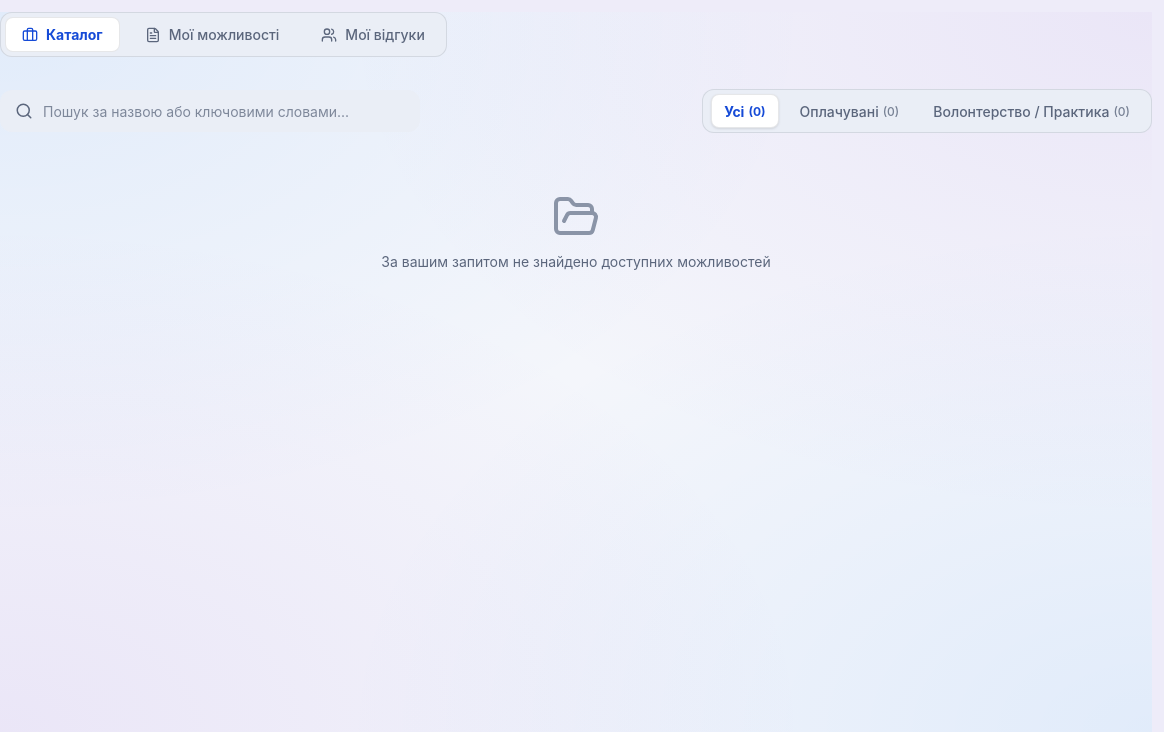
OpportunitiesTab component › should switch active sub-tab when clicking a tab button
Click the tab "Мої можливості": x=212, y=34 128,17 -> 296,52
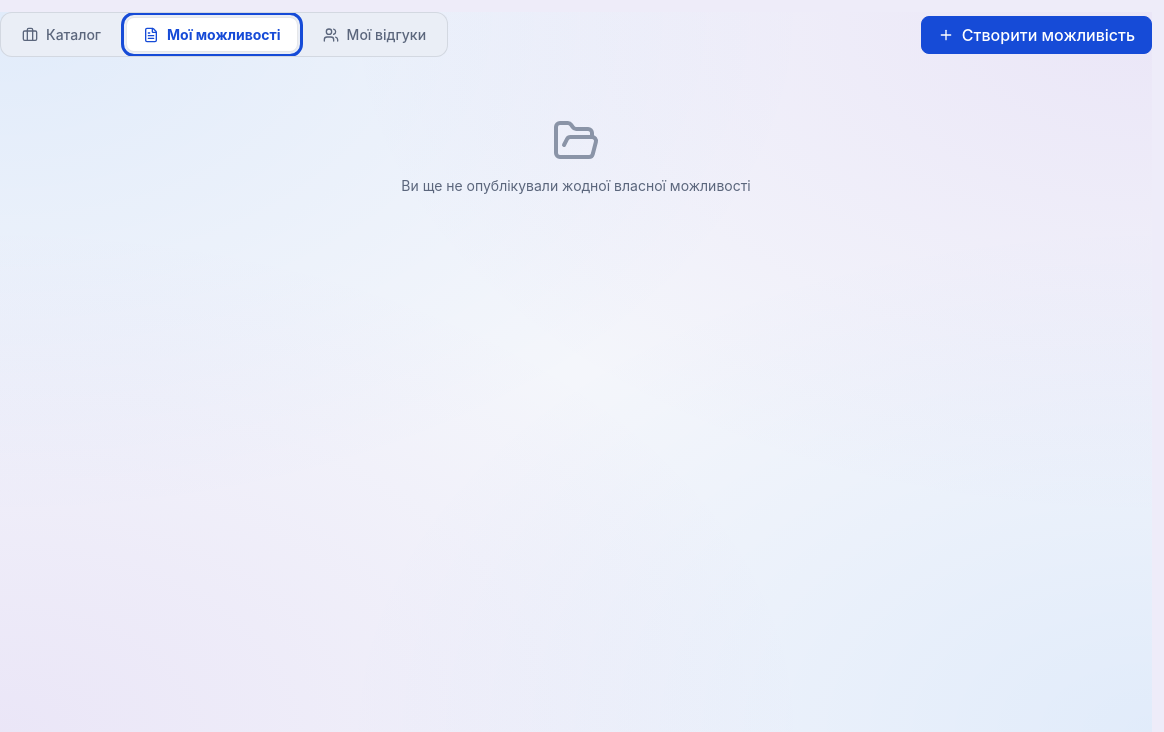
Check: the button "Створити можливість" is shown, box 921,16 -> 1152,54
Click the tab "Мої відгуки": x=374, y=34 306,17 -> 443,52
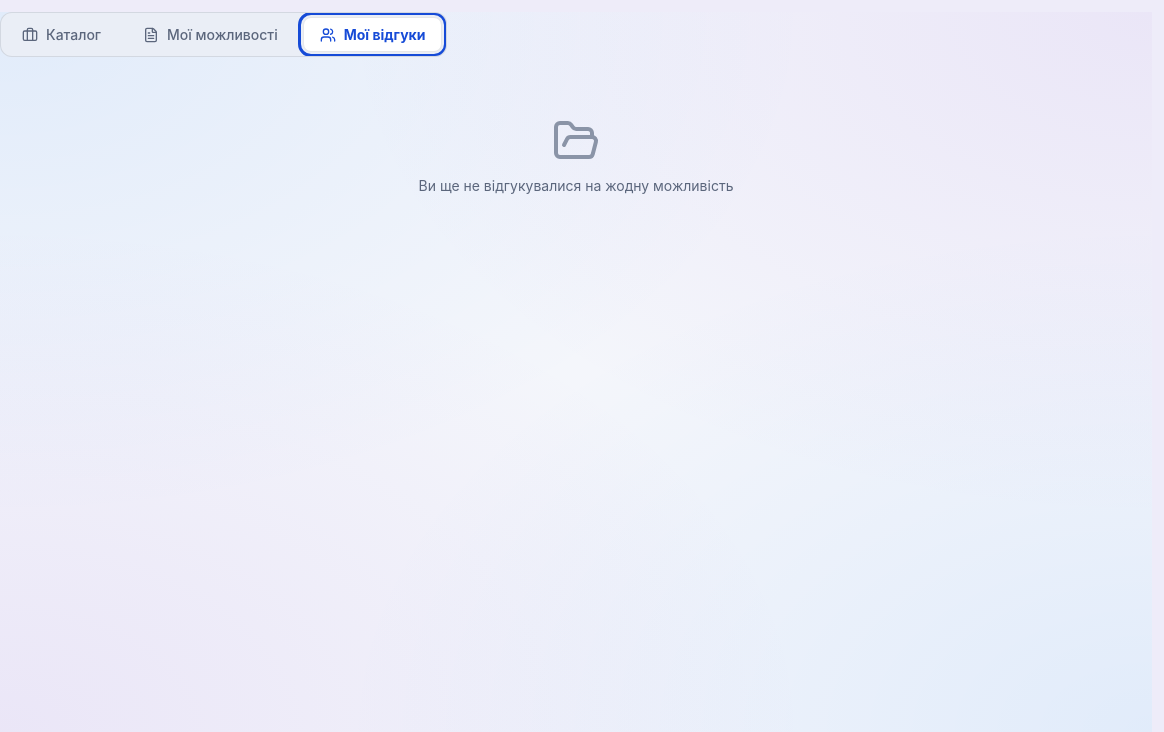
Check: the button "Створити можливість" is gone
